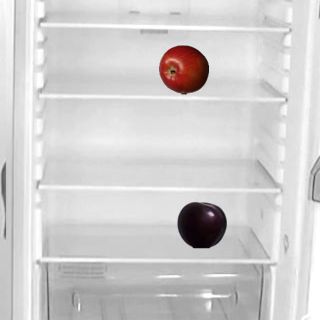Apple Braeburn: (158, 44, 208, 94)
Cherry Wax Black: (176, 199, 226, 249)
